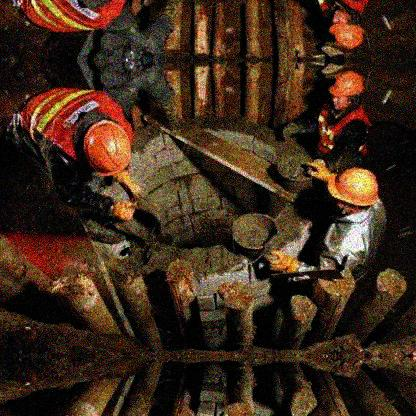helmet: (326, 168, 380, 213), (328, 70, 366, 111), (330, 9, 365, 48)
